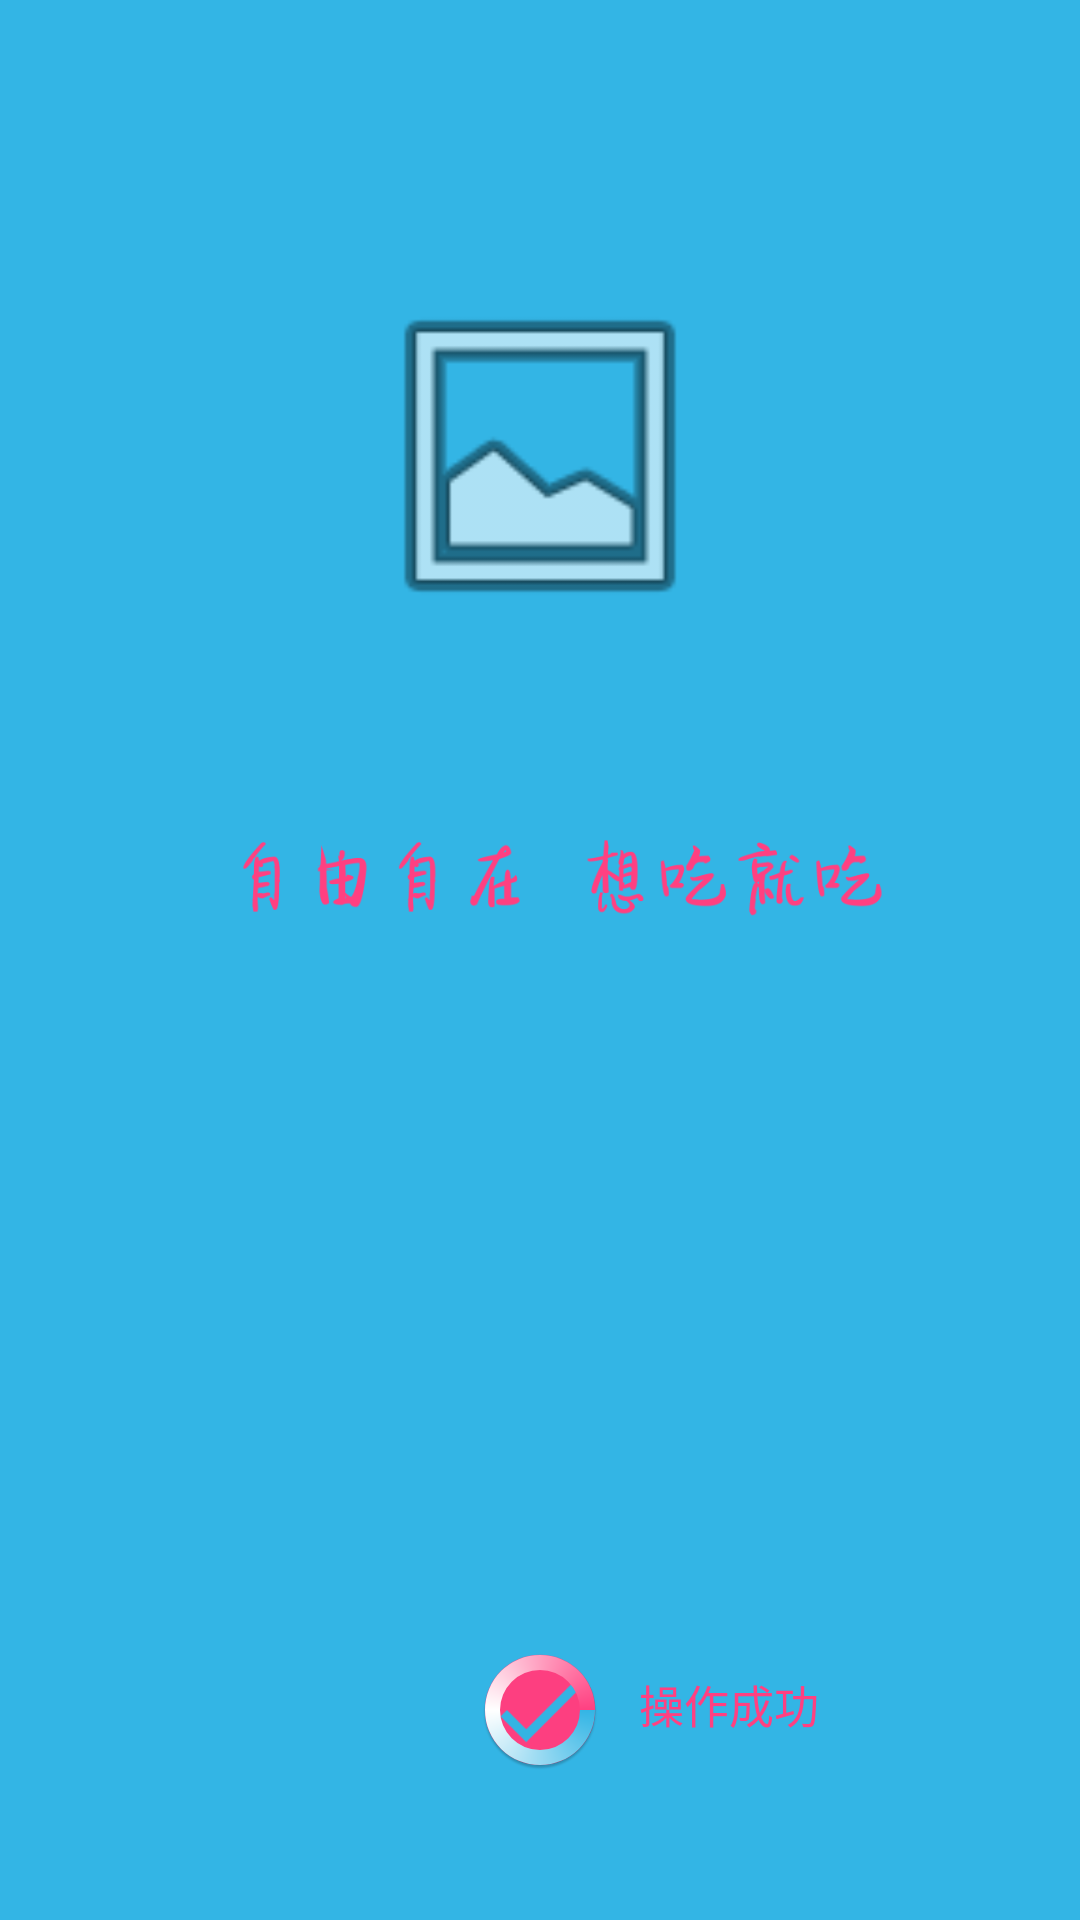

Screen size 1080 × 1920. Icon name, then its center in pixels as (x=x, y=y):
gallery: (x=540, y=456)
progress finish: (x=540, y=1711)
